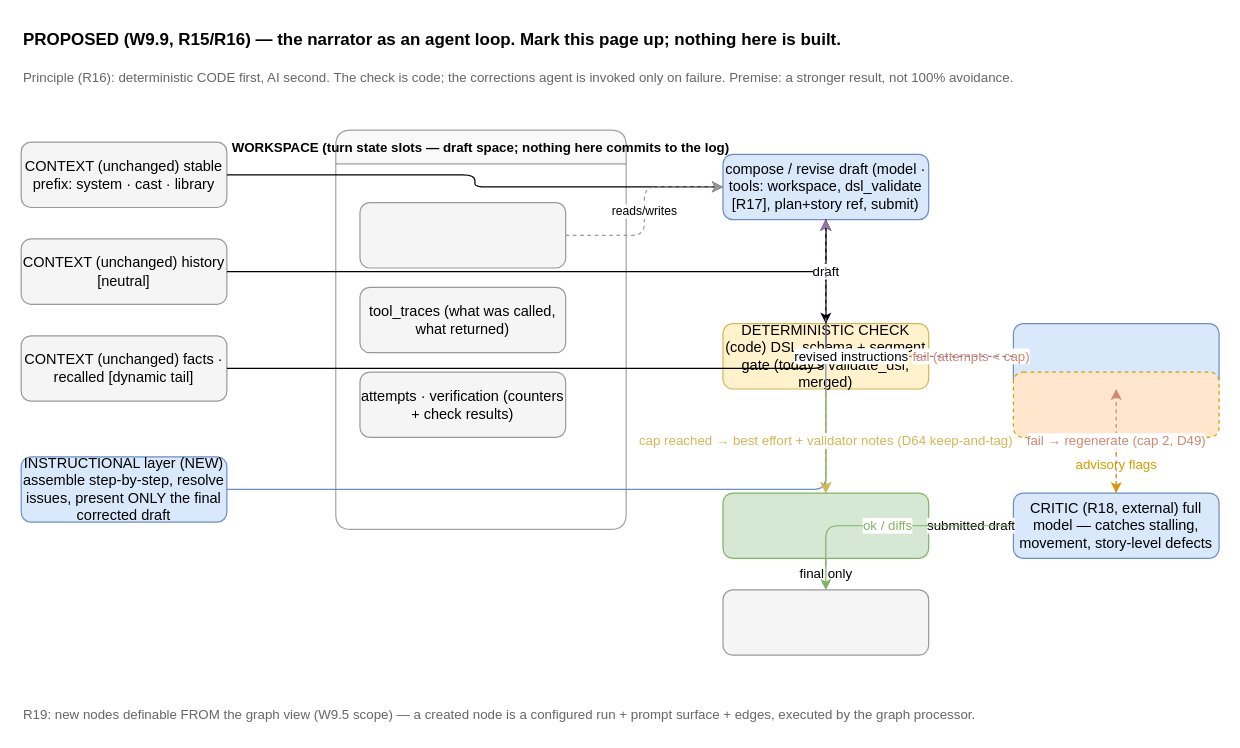
The diagram is 1240 pixels wide and 748 high, and some of its shapes have lost their labels. The centre of each missing label's shape, as x and y in pixels:
"commits to the LOG (D9) state = draft, log = truth" belongs at pixel 825 622.
"corrections agent (AI — only on failure; fix THESE errors)" belongs at pixel 1115 355.
"DECISION (d1-3b) call class: decision · no-token slop map + movement flags" belongs at pixel 1115 404.
"drafts d1..dN (revise/append in place)" belongs at pixel 462 234.
"submit final draft" belongs at pixel 825 525.
